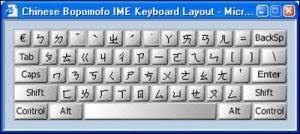keyboard: (3, 25, 295, 134)
